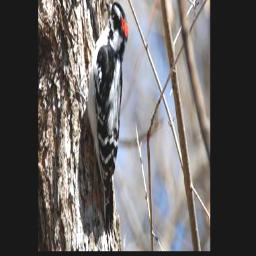Woodpecker: (85, 0, 130, 234)
